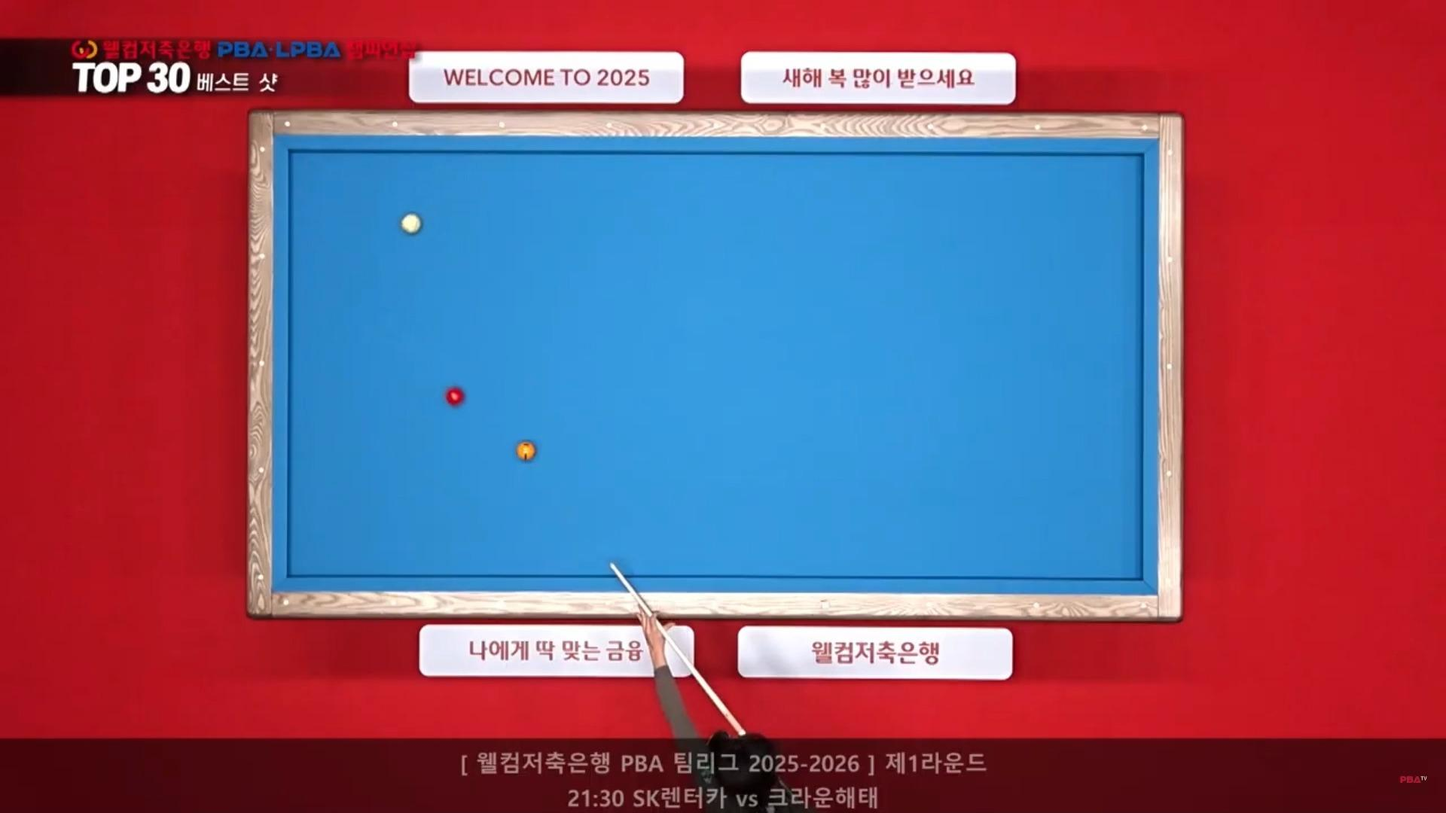Red: (445, 389, 468, 407)
White: (399, 214, 424, 235)
billiard-ball-Yellow: (515, 440, 535, 466)
